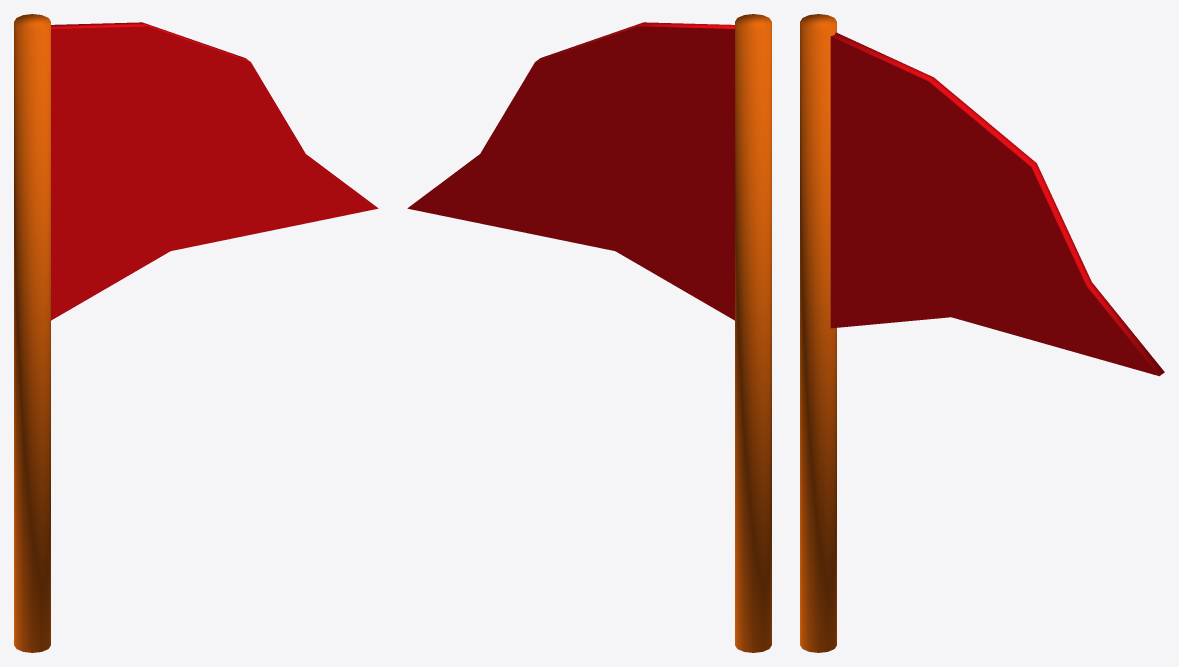
The model's file is flagRed.dae.
The picture shows the model from 3 angles, left to right: view 1: azimuth 30°, elevation 25°; view 2: azimuth 150°, elevation 25°; view 3: azimuth 330°, elevation 25°; orthographic projection.
Visible parts, largest first — view 1: GodotFlagRed; view 2: GodotFlagRed; view 3: GodotFlagRed.
Boxes of the visible parts, box(x1,y1,x2,y2) form: GodotFlagRed: box(14, 14, 378, 652); GodotFlagRed: box(407, 14, 771, 652); GodotFlagRed: box(800, 14, 1164, 652).
Bounding box in the file's own units: 3.61 × 0.3217 × 5.97.
